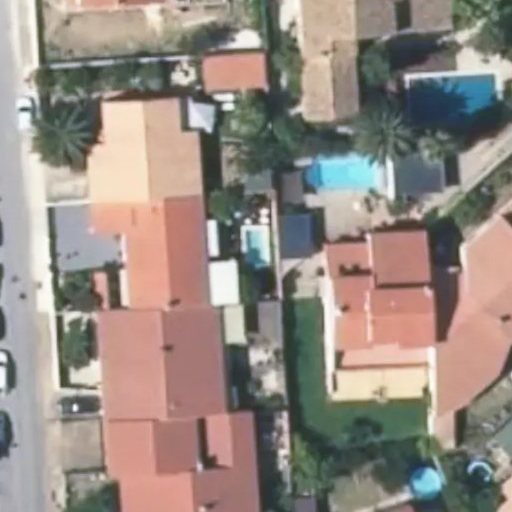pool: (245, 225, 266, 258)
